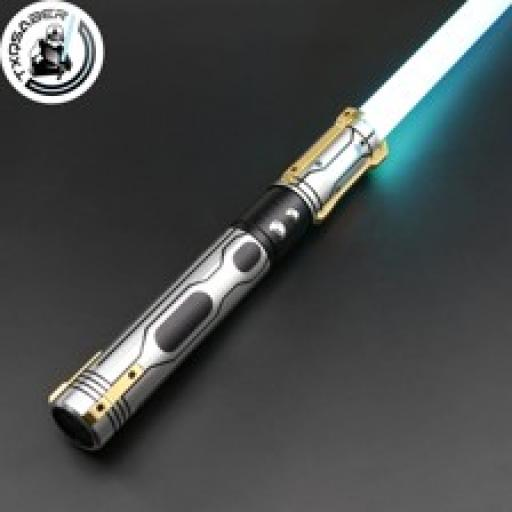lightsaber: (46, 0, 507, 457)
